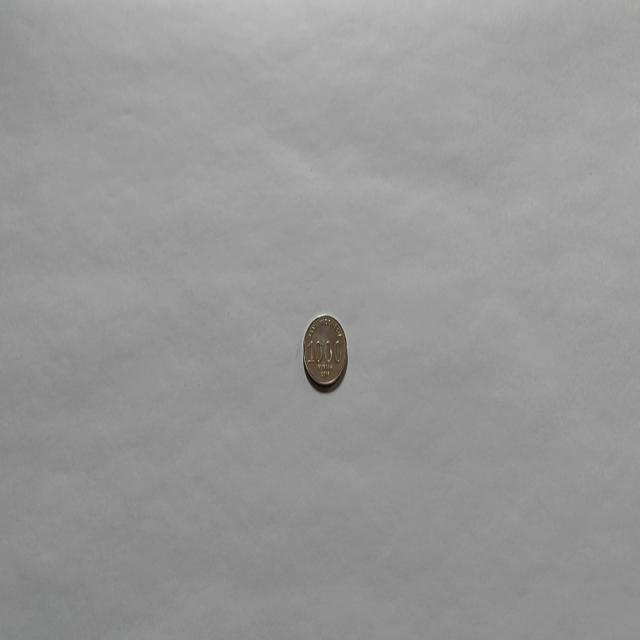seribu rupiah koin: (302, 312, 348, 391)
